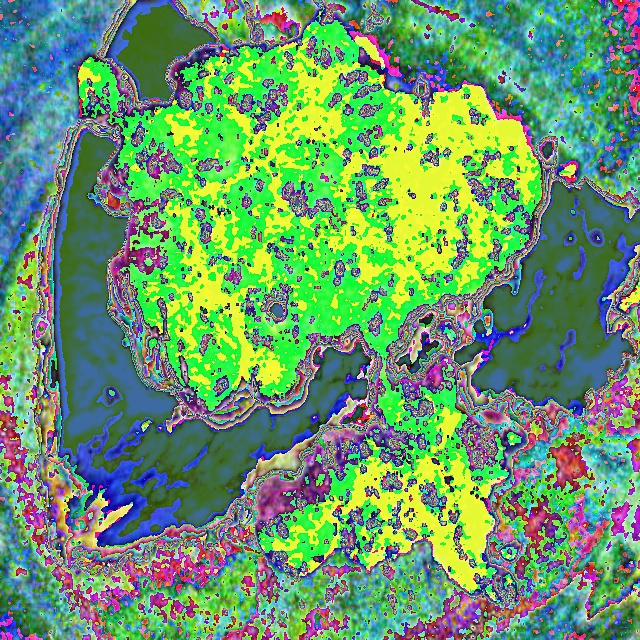background: (30, 0, 639, 605)
